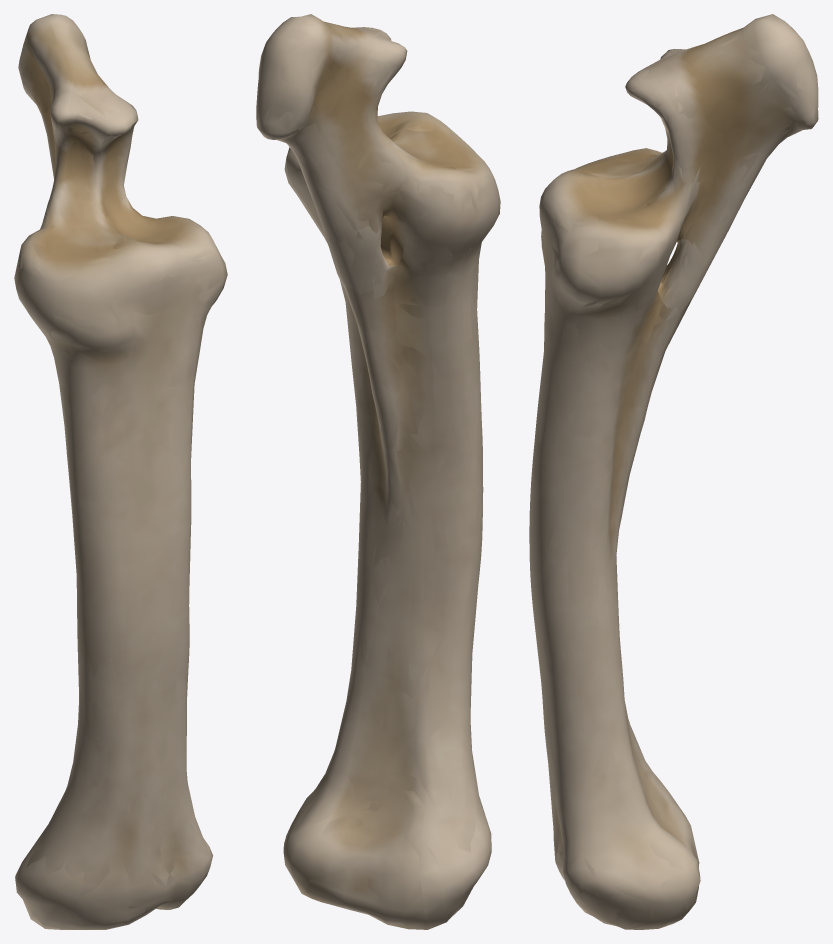
Rendered from L Ulna Radius.fbx.
The picture shows the model from 3 angles, left to right: view 1: azimuth 30°, elevation 25°; view 2: azimuth 150°, elevation 25°; view 3: azimuth 270°, elevation 25°; orthographic projection. The views are drawn at different scales.
Visible parts, largest first — view 1: L Ulna Radius, L Ulna Radius low; view 2: L Ulna Radius low, L Ulna Radius; view 3: L Ulna Radius, L Ulna Radius low.
Boxes of the visible parts, bbox=[...] form: L Ulna Radius: bbox=[14, 14, 227, 929]; L Ulna Radius low: bbox=[15, 14, 227, 929]; L Ulna Radius low: bbox=[257, 17, 500, 929]; L Ulna Radius: bbox=[256, 14, 500, 929]; L Ulna Radius: bbox=[529, 14, 818, 929]; L Ulna Radius low: bbox=[530, 14, 817, 929].
Bounding box in the file's own units: 9.55 × 42.27 × 12.38.
1 material, 1 textured.
